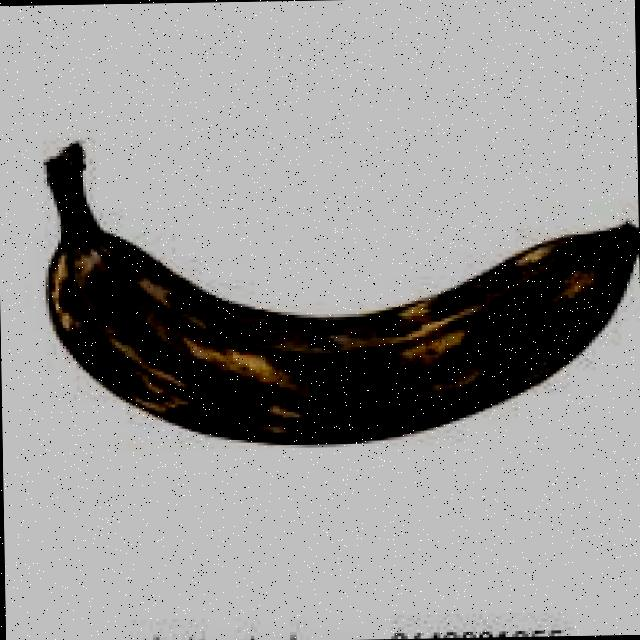Rotten: (12, 112, 640, 482)
